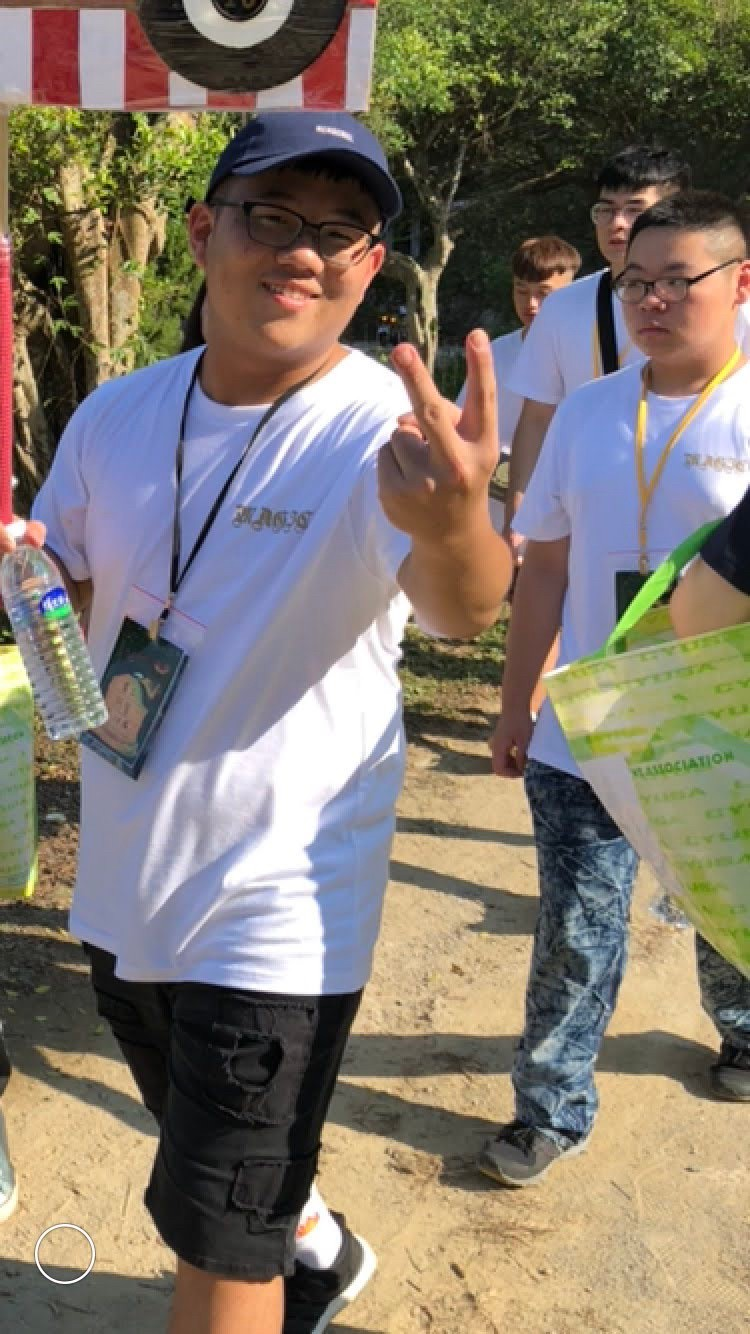people: (120, 102, 375, 1325), (578, 197, 750, 1180), (573, 136, 690, 376), (488, 229, 571, 548)
